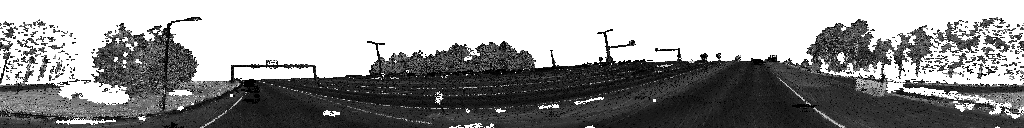gantry_sign_pole: (230, 60, 316, 79), (597, 28, 636, 68), (655, 48, 681, 63)
light_pole: (159, 17, 201, 109), (367, 42, 384, 83), (0, 58, 8, 85), (550, 51, 555, 67)
traffic_pole: (701, 54, 707, 74), (716, 54, 720, 68)
